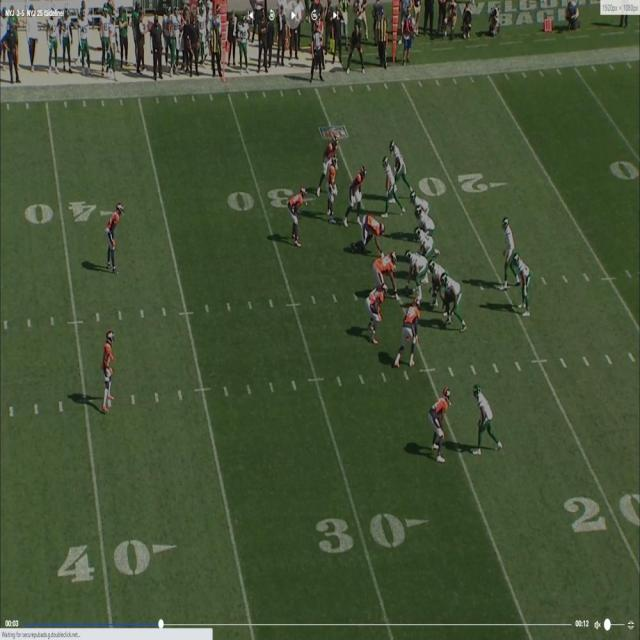center: (404, 252, 425, 292)
db: (431, 389, 450, 456), (104, 205, 123, 269), (102, 336, 116, 416), (323, 132, 340, 165)
lb: (398, 296, 420, 361), (369, 284, 387, 338), (292, 186, 307, 244), (326, 161, 336, 221)
qb: (502, 217, 514, 288)
skill: (472, 389, 494, 452), (514, 251, 530, 317), (381, 157, 397, 221), (389, 137, 404, 186), (410, 190, 434, 217)
